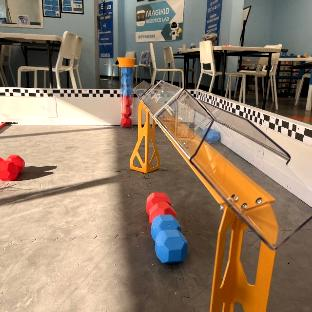V5_BLUE: (146, 193, 187, 262), (205, 130, 220, 142)
V5_RED: (119, 58, 134, 126), (0, 155, 23, 181)
